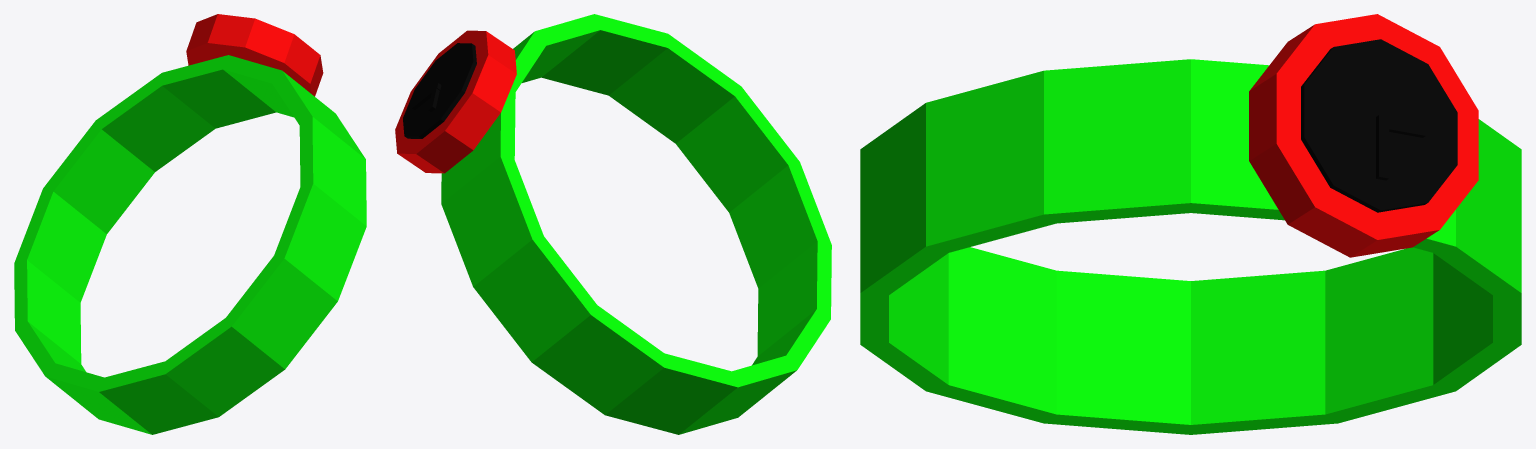
Rendered from wrist_watch_01.glb.
3 renders of one model, left to right at view 1: azimuth 30°, elevation 25°; view 2: azimuth 150°, elevation 25°; view 3: azimuth 270°, elevation 25°, orthographic. The views are drawn at different scales.
Visible parts, largest first — view 1: wrist_watch_01; view 2: wrist_watch_01; view 3: wrist_watch_01.
Part boxes in pixels (<box>): wrist_watch_01: <box>14,14,366,434</box>; wrist_watch_01: <box>395,14,831,434</box>; wrist_watch_01: <box>860,14,1521,434</box>.
Size of the model in its own units: 0.087 by 0.087 by 0.0907.
Materials: 1 (1 with a texture image).
